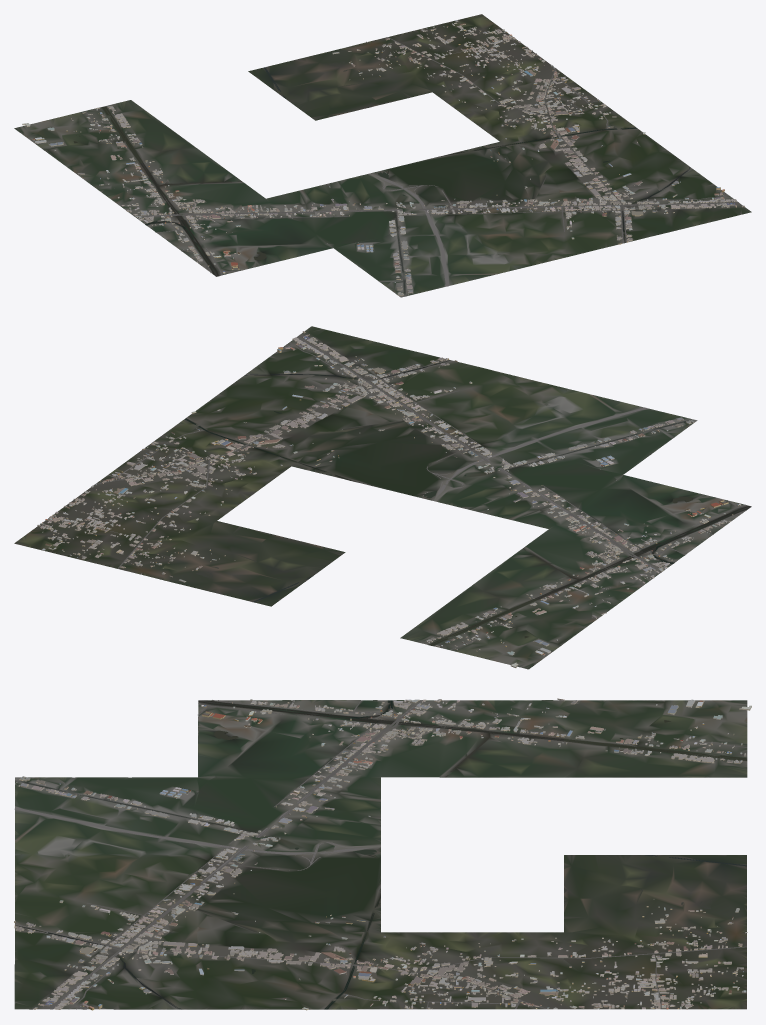
3 renders of one model, top to bottom at view 1: azimuth 30°, elevation 25°; view 2: azimuth 150°, elevation 25°; view 3: azimuth 270°, elevation 25°, orthographic. The views are drawn at different scales.
Visible parts, largest first — view 1: ground, buildings, roads, water; view 2: ground, buildings, roads, water; view 3: ground, buildings, roads, water.
Boxes of the visible parts, x1,y1,x2,y2 form: ground: [14, 14, 751, 297]; buildings: [22, 20, 744, 295]; roads: [85, 37, 738, 286]; water: [73, 61, 689, 293]; ground: [14, 326, 751, 669]; buildings: [37, 331, 740, 667]; roads: [49, 336, 746, 650]; water: [185, 361, 750, 645]; ground: [14, 700, 747, 1009]; buildings: [14, 698, 751, 1010]; roads: [14, 700, 746, 1009]; water: [20, 700, 746, 1009].
Size of the model in its own units: 5629 by 28.95 by 5647.
